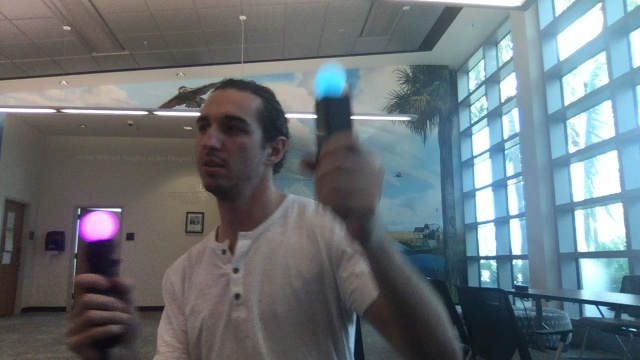wand: (81, 211, 118, 240), (314, 65, 347, 97)
